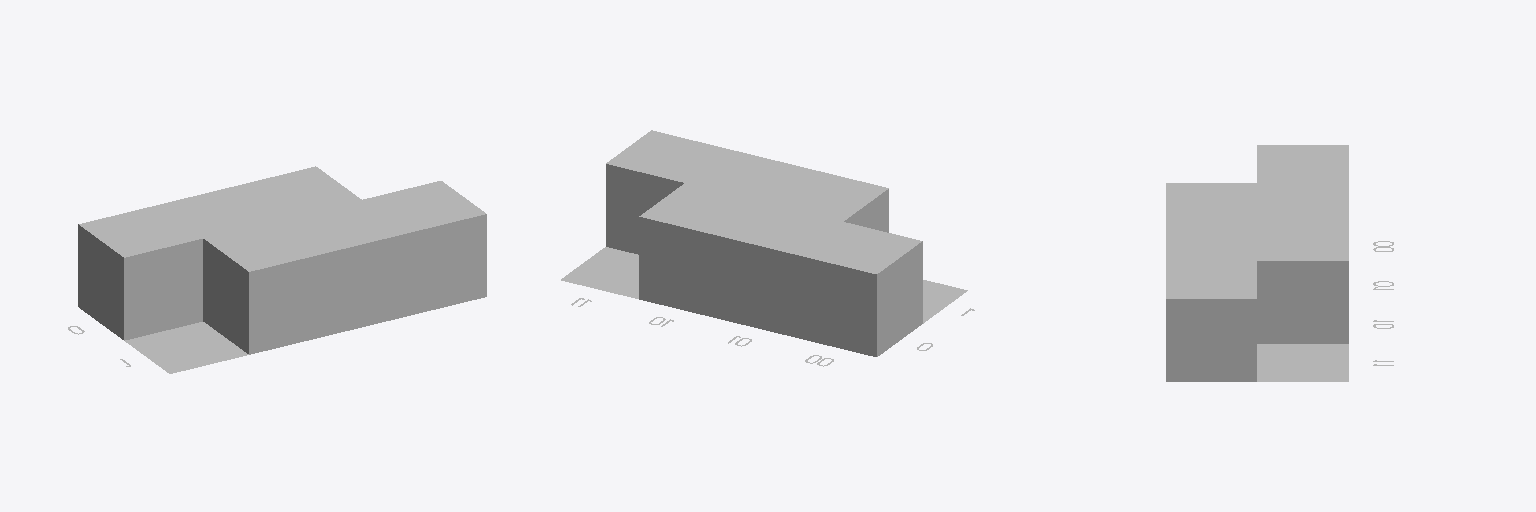
3 views of the same model, side by side, from view 1: azimuth 30°, elevation 25°; view 2: azimuth 150°, elevation 25°; view 3: azimuth 270°, elevation 25° (orthographic).
Parts seen in each view (by area): view 1: Object(1,1)[length_1], Object(2,2)[length_1], Object(3,2)[length_1], Object(4,2)[length_1], Object(3,1)[length_1], Object(1,2)[length_0], Object(2,1)[length_1]; view 2: Object(1,1)[length_1], Object(2,1)[length_1], Object(3,1)[length_1], Object(4,2)[length_1], Object(2,2)[length_1], Object(3,2)[length_1], Object(4,1)[length_0], Object(1,2)[length_0]; view 3: Object(3,1)[length_1], Object(4,2)[length_1], Object(2,1)[length_1], Object(2,2)[length_1], Object(3,2)[length_1], Object(1,1)[length_1], Object(4,1)[length_0].
Part boxes in pixels (x1,y1,x2,y2): Object(1,1)[length_1]: (78, 205, 202, 340); Object(2,2)[length_1]: (203, 219, 327, 354); Object(3,2)[length_1]: (283, 200, 407, 335); Object(4,2)[length_1]: (363, 181, 486, 315); Object(3,1)[length_1]: (238, 166, 361, 218); Object(1,2)[length_0]: (125, 322, 248, 373); Object(2,1)[length_1]: (158, 186, 281, 237); Object(1,1)[length_1]: (798, 222, 922, 356); Object(2,1)[length_1]: (718, 202, 841, 337); Object(3,1)[length_1]: (639, 183, 763, 318); Object(4,2)[length_1]: (606, 130, 729, 254); Object(2,2)[length_1]: (765, 169, 888, 232); Object(3,2)[length_1]: (686, 150, 808, 201); Object(4,1)[length_0]: (561, 247, 638, 298); Object(1,2)[length_0]: (923, 280, 967, 323); Object(3,1)[length_1]: (1257, 222, 1348, 343); Object(4,2)[length_1]: (1166, 261, 1256, 381); Object(2,1)[length_1]: (1257, 183, 1348, 221); Object(2,2)[length_1]: (1166, 183, 1256, 221); Object(3,2)[length_1]: (1166, 222, 1256, 260); Object(1,1)[length_1]: (1257, 145, 1348, 182); Object(4,1)[length_0]: (1257, 344, 1348, 381).
Bounding box in the file's own units: 4.38 × 1 × 2.5.